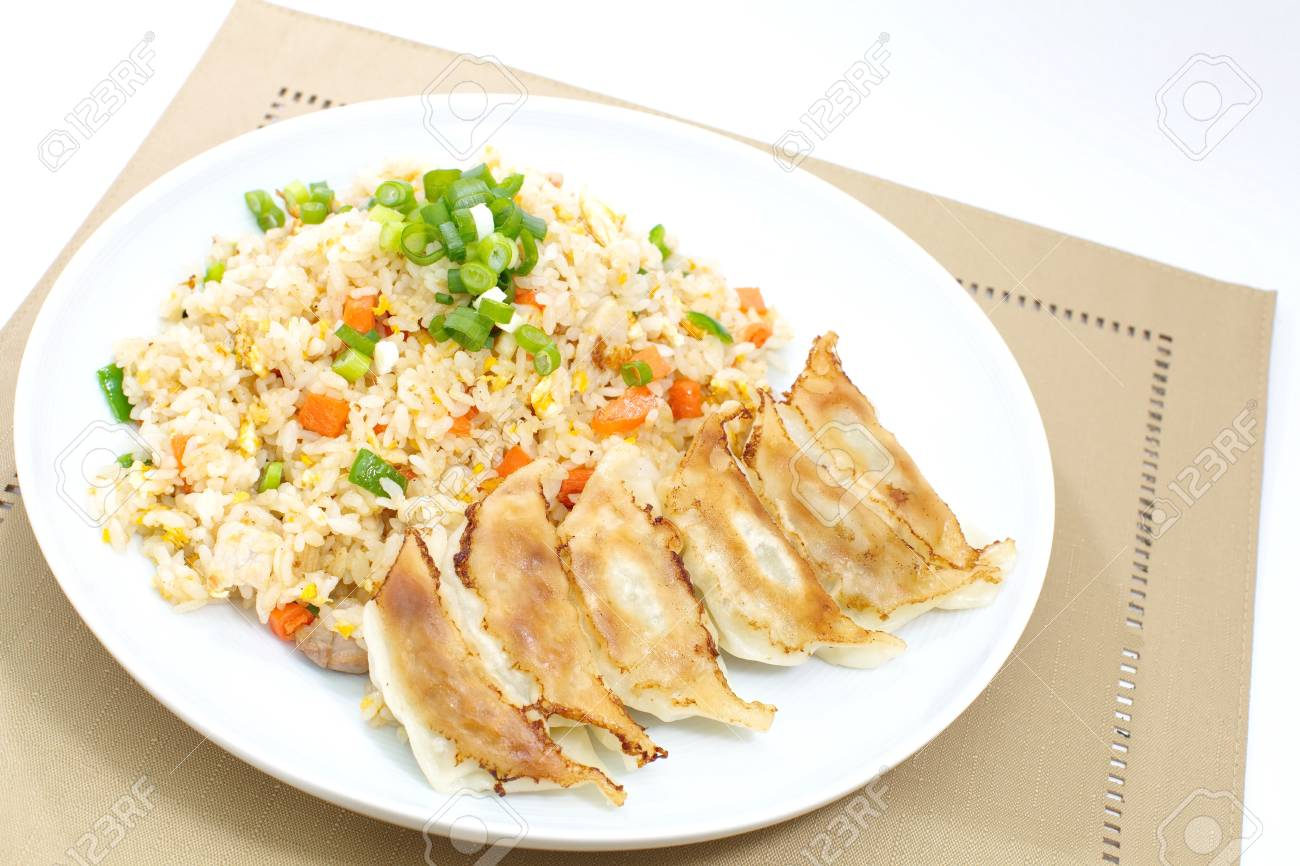fried_dumplings: (388, 577, 538, 816), (469, 502, 602, 700), (772, 422, 911, 602), (689, 451, 812, 647), (828, 389, 958, 571), (597, 493, 702, 704)
